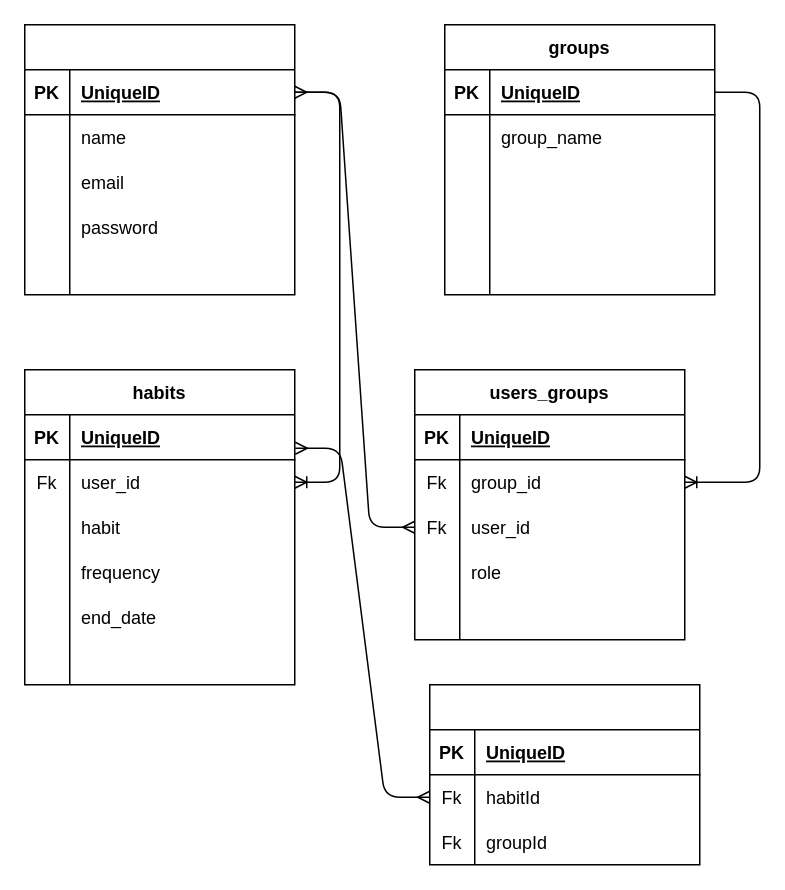
Some shapes in this 785 by 890 pixel diagram are drawn without their labels. The shapes that lost their labels are listed below. From the top down, each one's box as (x1, y1, x2, y2) in pixels, then its label:
(23, 23, 295, 295): users
(428, 683, 700, 865): habits_groups
